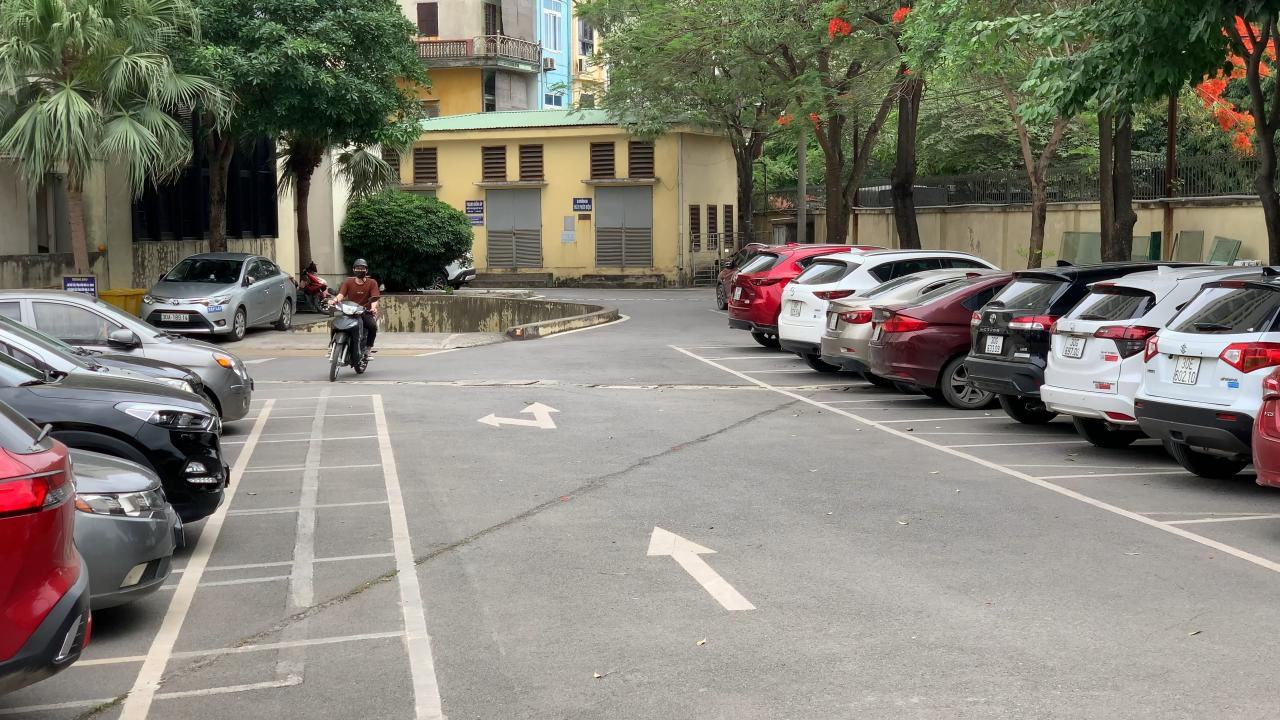helmet: (353, 258, 368, 267)
motorcyclist: (322, 258, 381, 381)
